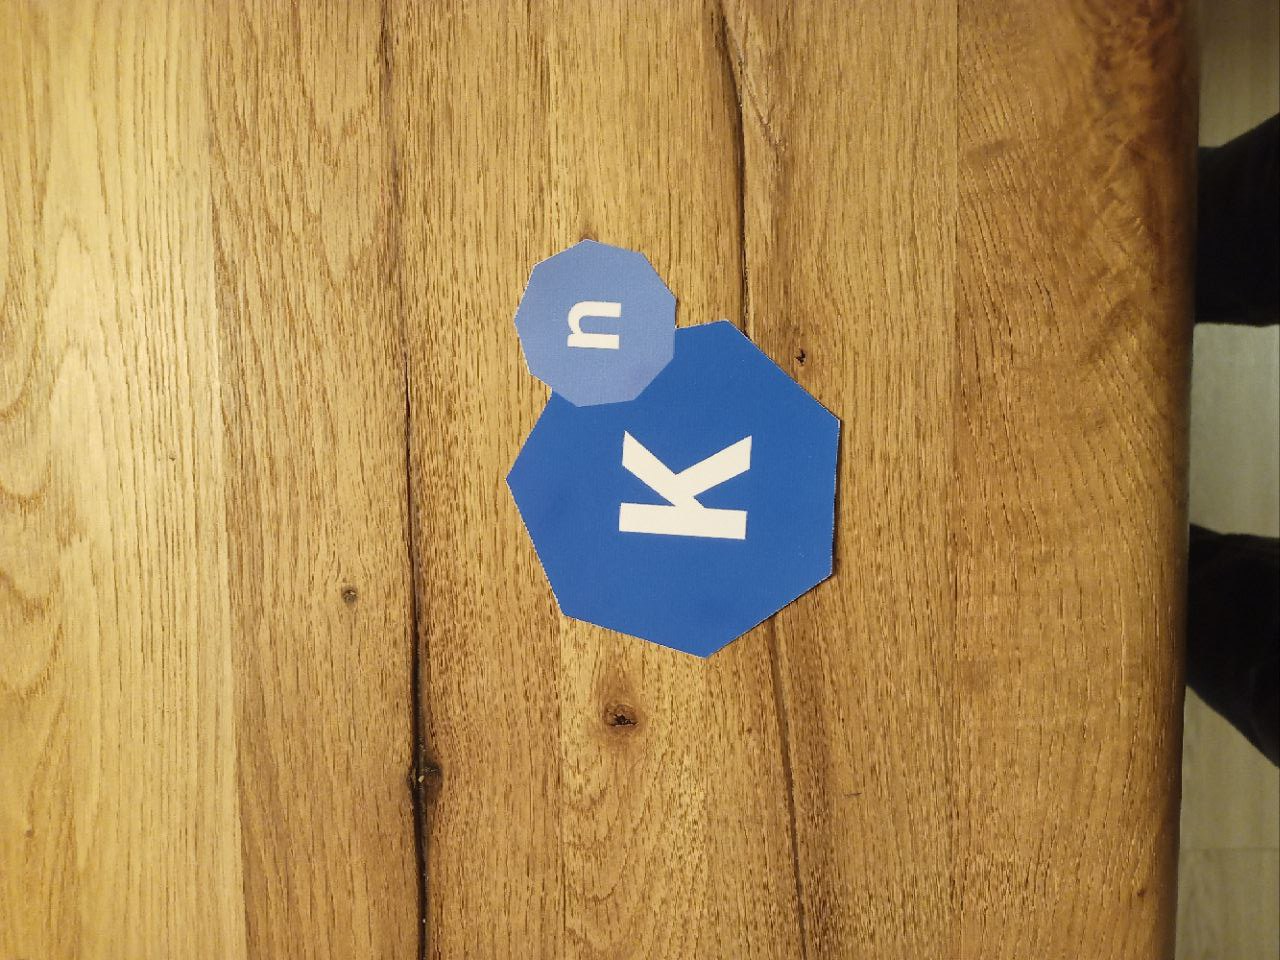knative: (507, 238, 843, 661)
